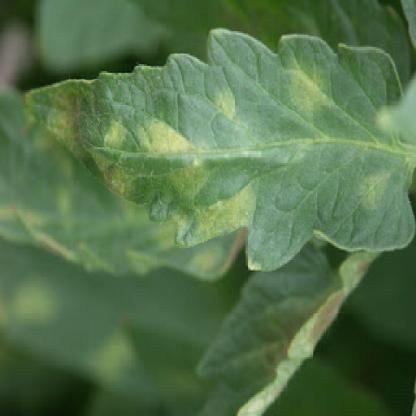tomato mold leaf: (21, 24, 415, 288)
